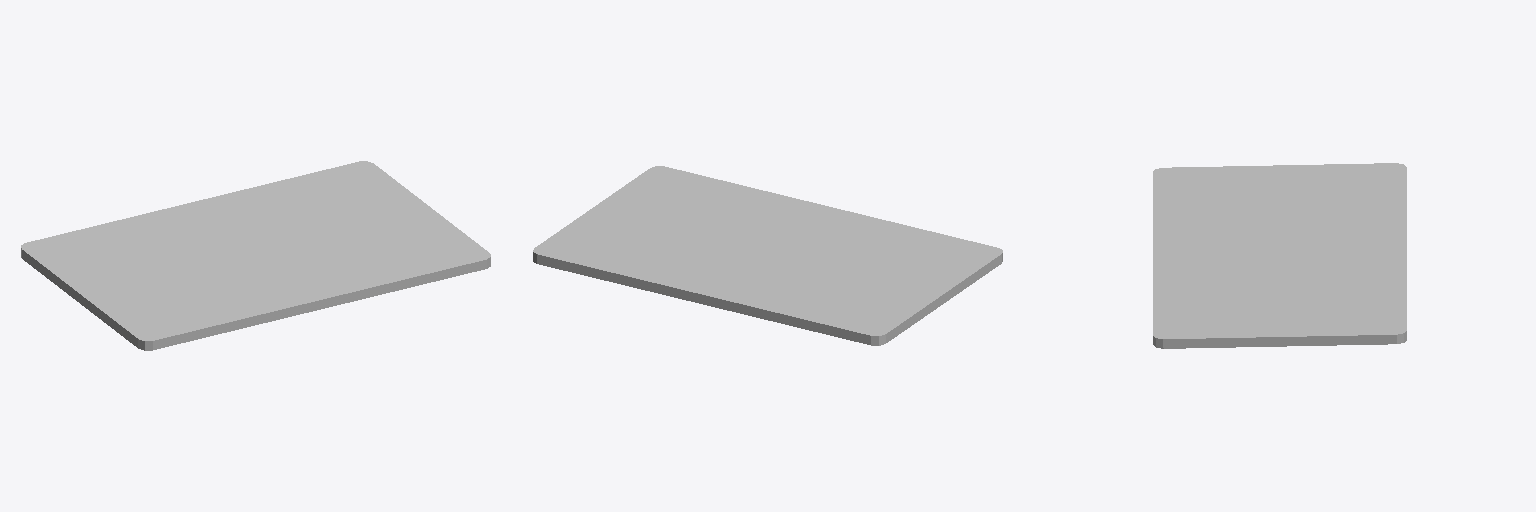
Rendered from ground-box.obj.
3 renders of one model, left to right at view 1: azimuth 30°, elevation 25°; view 2: azimuth 150°, elevation 25°; view 3: azimuth 270°, elevation 25°, orthographic.
Visible parts, largest first — view 1: Deco_01.010; view 2: Deco_01.010; view 3: Deco_01.010.
Part boxes in pixels (left/top/right/bottom): Deco_01.010: left=21, top=161, right=490, bottom=350; Deco_01.010: left=533, top=166, right=1002, bottom=345; Deco_01.010: left=1153, top=163, right=1406, bottom=348.
Size of the model in its own units: 1.7 by 0.0674 by 1.06.